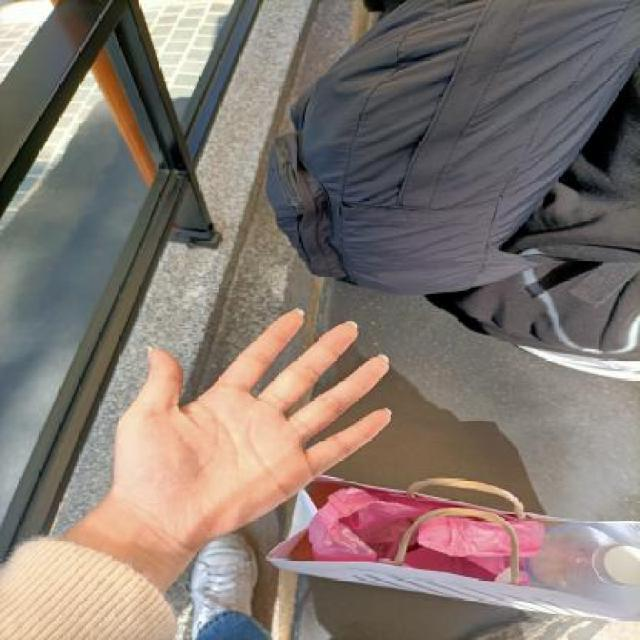bare_hand: (98, 293, 417, 555)
